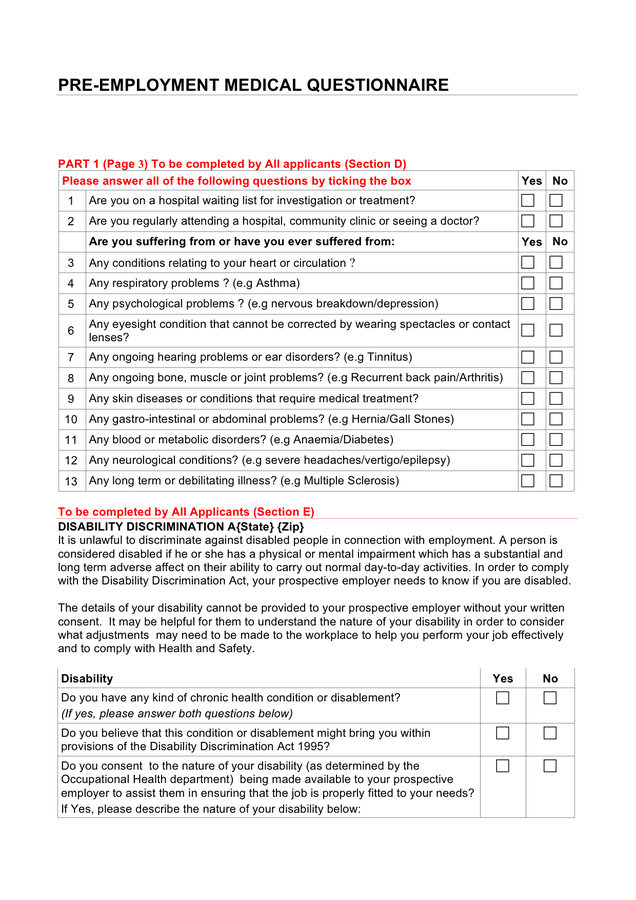checkbox: (486, 758, 517, 778), (548, 320, 570, 342), (536, 757, 561, 776), (489, 725, 515, 743), (491, 689, 514, 709), (519, 430, 543, 448), (545, 368, 567, 387), (518, 468, 538, 488), (546, 252, 567, 271), (519, 366, 538, 387), (518, 408, 539, 427), (541, 689, 560, 710), (518, 389, 540, 407), (545, 410, 567, 428), (518, 451, 540, 469), (520, 189, 539, 209), (520, 319, 539, 339), (539, 725, 559, 744), (517, 273, 538, 291), (545, 471, 567, 488), (547, 349, 568, 366), (544, 389, 565, 406), (547, 191, 566, 209), (519, 210, 537, 229), (546, 430, 566, 447), (519, 253, 537, 271), (547, 274, 565, 292), (548, 212, 566, 229), (547, 451, 565, 468), (547, 295, 566, 311), (519, 349, 538, 365), (519, 294, 536, 311)
